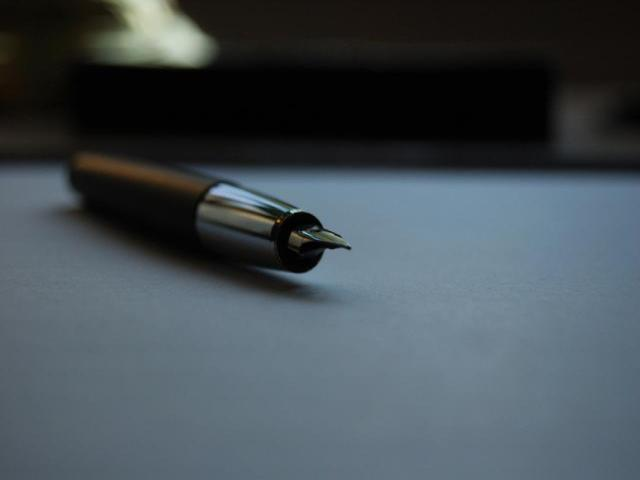PEN: (40, 138, 363, 286)
